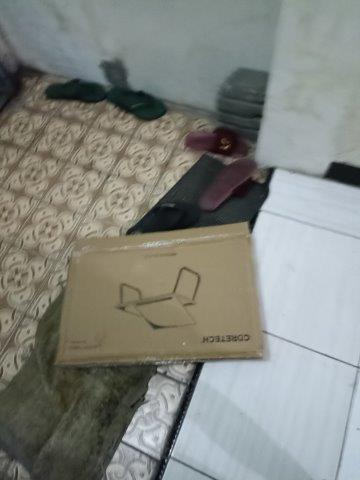kardus: (58, 223, 263, 365)
